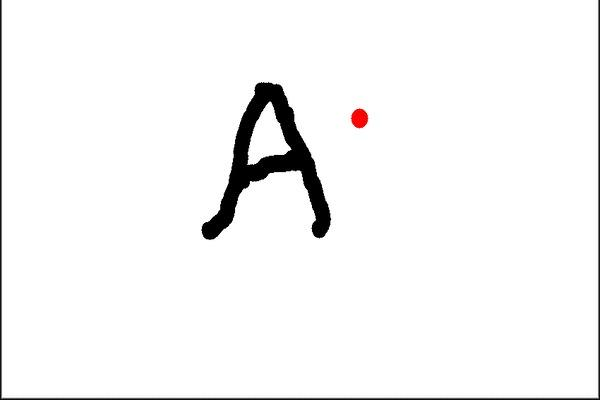A: (190, 73, 336, 248)
